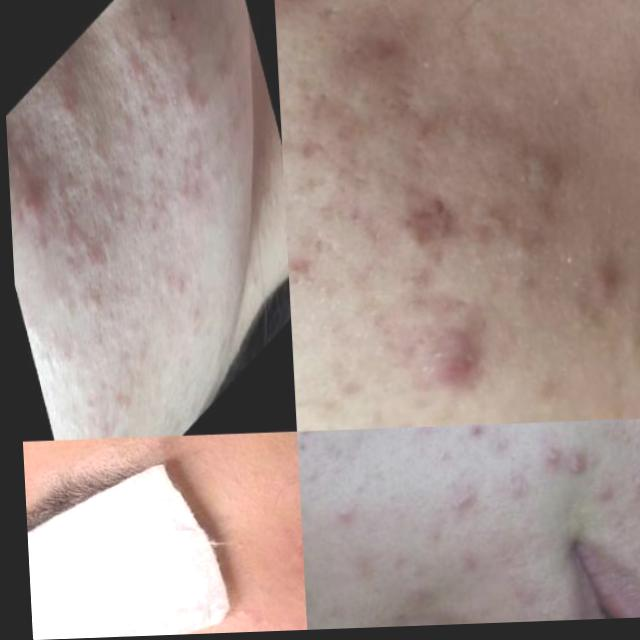8: (552, 240, 640, 332), (9, 155, 45, 244), (429, 475, 487, 524), (120, 314, 151, 387), (523, 435, 567, 478), (576, 475, 621, 516), (444, 543, 486, 586), (76, 272, 104, 329), (173, 66, 202, 121), (54, 83, 78, 131), (444, 427, 491, 448), (107, 381, 128, 423), (141, 206, 161, 248), (172, 174, 192, 215), (130, 22, 148, 62), (184, 170, 203, 206), (169, 267, 186, 303), (149, 139, 165, 172), (214, 161, 230, 193)
9: (607, 458, 640, 513)
blackheads: (265, 515, 298, 587), (554, 441, 599, 484)
dark spot: (310, 489, 362, 536), (419, 439, 458, 474), (53, 196, 72, 236), (130, 94, 150, 130), (69, 250, 86, 289), (61, 225, 79, 259)
pustules: (374, 305, 510, 420), (501, 132, 582, 206)
